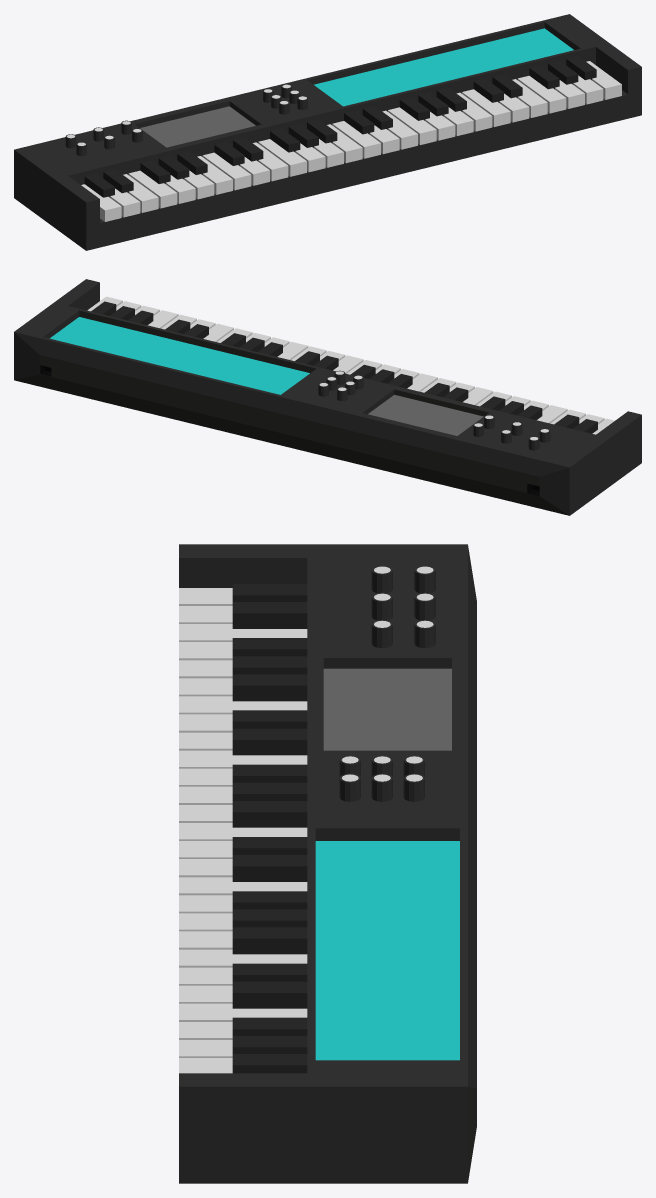
Rendered from Large Keyboard.fbx.
The picture shows the model from 3 angles, top to bottom: view 1: azimuth 30°, elevation 25°; view 2: azimuth 150°, elevation 25°; view 3: azimuth 270°, elevation 25°; orthographic projection. The views are drawn at different scales.
Visible parts, largest first — view 1: Large Keyboard; view 2: Large Keyboard; view 3: Large Keyboard.
Part boxes in pixels (<box>): Large Keyboard: <box>14,14,641,250</box>; Large Keyboard: <box>14,279,641,515</box>; Large Keyboard: <box>179,544,476,1183</box>.
Bounding box in the file's own units: 1200 × 120 × 278.
